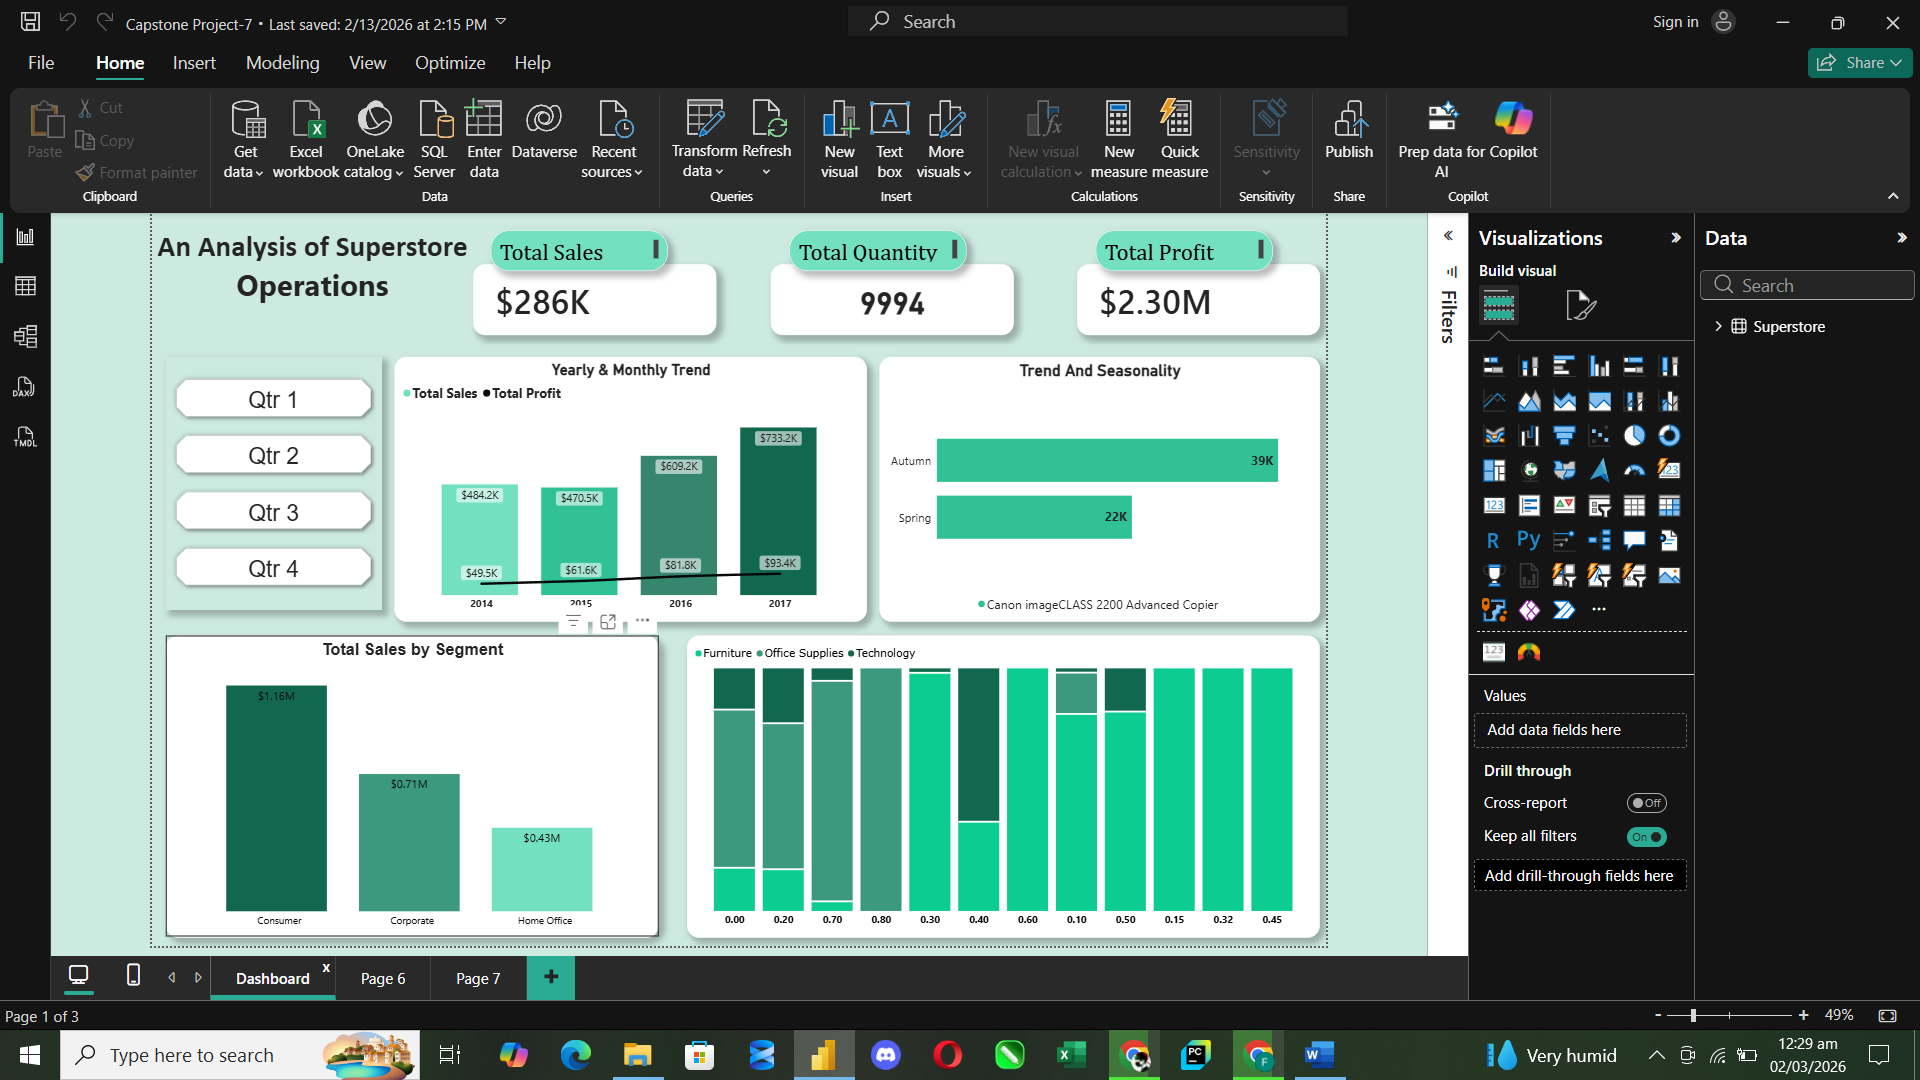

The page's visual inventory and layout, read from the dashboard file:
{"tool":"powerbi","page":{"name":"Dashboard","canvas":[1920,1200],"ordinal":0},"visuals":[{"type":"card","fields":{"Values":["Superstore.Total Quantity"]},"box":[1013.2,82.8,397.6,116],"z":0},{"type":"cardVisual","fields":{"Data":["Superstore.Total Profit"]},"box":[524.6,82.8,397.6,116],"z":1000},{"type":"textbox","box":[1043.6,27.6,289.9,66.3],"z":2000},{"type":"cardVisual","fields":{"Data":["Superstore.Total Sales"]},"box":[1512.9,82.8,397.6,116],"z":3000},{"type":"textbox","box":[1543.3,27.6,289.9,66.3],"z":4000},{"type":"lineStackedColumnComboChart","title":"Yearly & Monthly Trend","fields":{"Category":["Superstore.Order_Date.Variation.Date Hierarchy.Year","Superstore.Order_Date.Variation.Date Hierarchy.Month"],"Y":["Superstore.Total Sales"],"Y2":["Superstore.Total Profit"]},"box":[397.6,234.7,773,433.4],"z":5000},{"type":"barChart","title":"Trend And Seasonality","fields":{"Y":["Sum(Superstore.Sales)"],"Series":["Superstore.Product_Name"],"Category":["Superstore.Season"]},"box":[1189.9,234.7,720.6,433.4],"z":6000},{"type":"hundredPercentStackedColumnChart","fields":{"Category":["Superstore.Discount"],"Series":["Superstore.Category"],"Y":["Superstore.Total Quantity"]},"box":[875.2,690.2,1035.3,494.2],"z":7000},{"type":"textbox","box":[554.9,27.6,289.9,66.3],"z":8000},{"type":"advancedSlicerVisual","fields":{"Values":["Superstore.Order_Date.Variation.Date Hierarchy.Quarter"]},"box":[22.1,234.7,353.4,414.1],"z":9000},{"type":"columnChart","title":"Total Sales by Segment","fields":{"Category":["Superstore.Segment"],"Y":["Superstore.Total Sales"]},"box":[22.1,690.2,806.2,494.2],"z":10000},{"type":"textbox","box":[0,20.2,525.7,179.1],"z":11000}]}

Visuals, with their boxes on the page's 1920x1200 design canvas (x1, y1, x2, y2). These are canvas units, not pixel positions in the 1920x1080 screenshot, which may show the page scaled, cropped or inside an application window:
card - Superstore.Total Quantity: 1013 83 1411 199
cardVisual - Superstore.Total Profit: 525 83 922 199
textbox: 1044 28 1334 94
cardVisual - Superstore.Total Sales: 1513 83 1910 199
textbox: 1543 28 1833 94
"Yearly & Monthly Trend" lineStackedColumnComboChart: 398 235 1171 668
"Trend And Seasonality" barChart: 1190 235 1910 668
hundredPercentStackedColumnChart - Superstore.Discount x Superstore.Category: 875 690 1910 1184
textbox: 555 28 845 94
advancedSlicerVisual - Superstore.Order_Date.Variation.Date Hierarchy.Quarter: 22 235 376 649
"Total Sales by Segment" columnChart: 22 690 828 1184
textbox: 0 20 526 199
